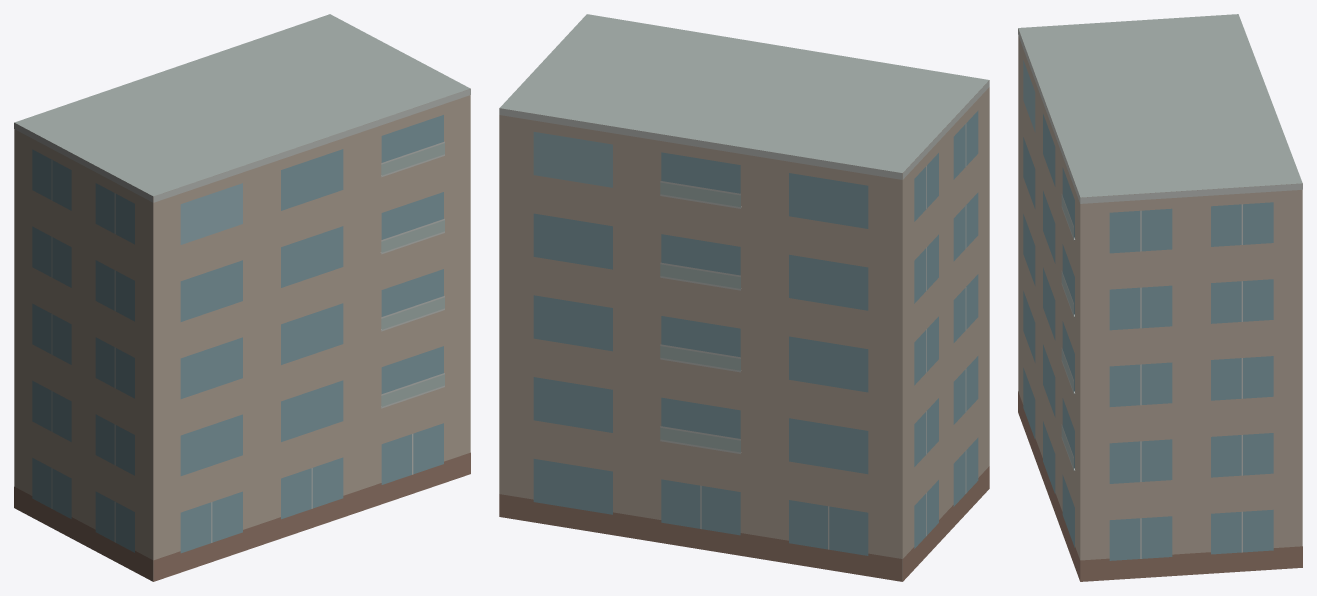
The model's file is survey-upis-33001103.glb.
3 renders of one model, left to right at view 1: azimuth 30°, elevation 25°; view 2: azimuth 150°, elevation 25°; view 3: azimuth 270°, elevation 25°, orthographic. The views are drawn at different scales.
Parts seen in each view (by area): view 1: survey-upis-33001103.tmp; view 2: survey-upis-33001103.tmp; view 3: survey-upis-33001103.tmp.
Boxes of the visible parts, x1=… form: survey-upis-33001103.tmp: x1=14, y1=14, x2=470, y2=581; survey-upis-33001103.tmp: x1=499, y1=14, x2=989, y2=581; survey-upis-33001103.tmp: x1=1018, y1=14, x2=1302, y2=581.
Size of the model in its own units: 14.96 by 14.6 by 9.81.
